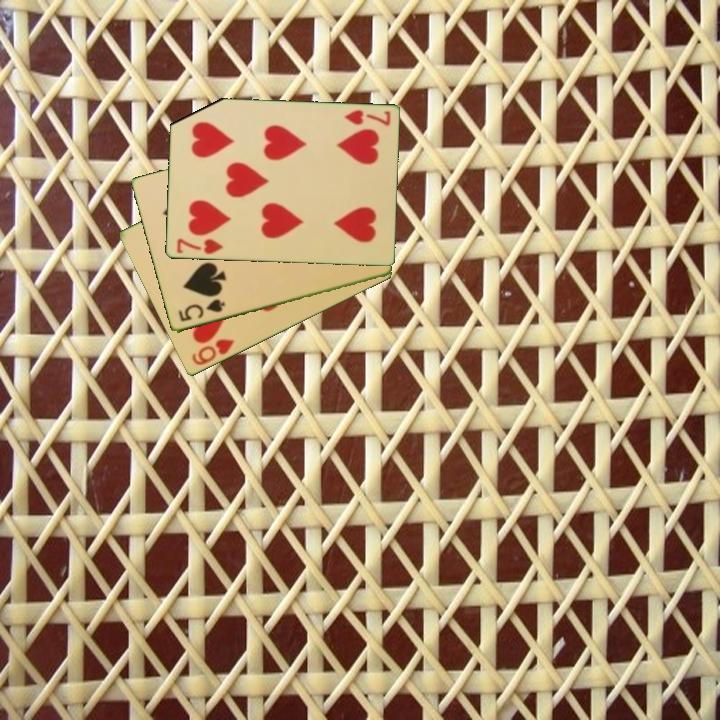5s: (175, 296, 228, 325)
6h: (188, 335, 237, 369)
7h: (173, 235, 226, 257), (341, 107, 393, 129)
